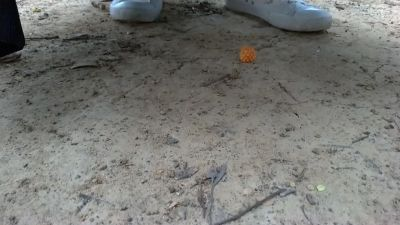eggs: (238, 42, 261, 64)
